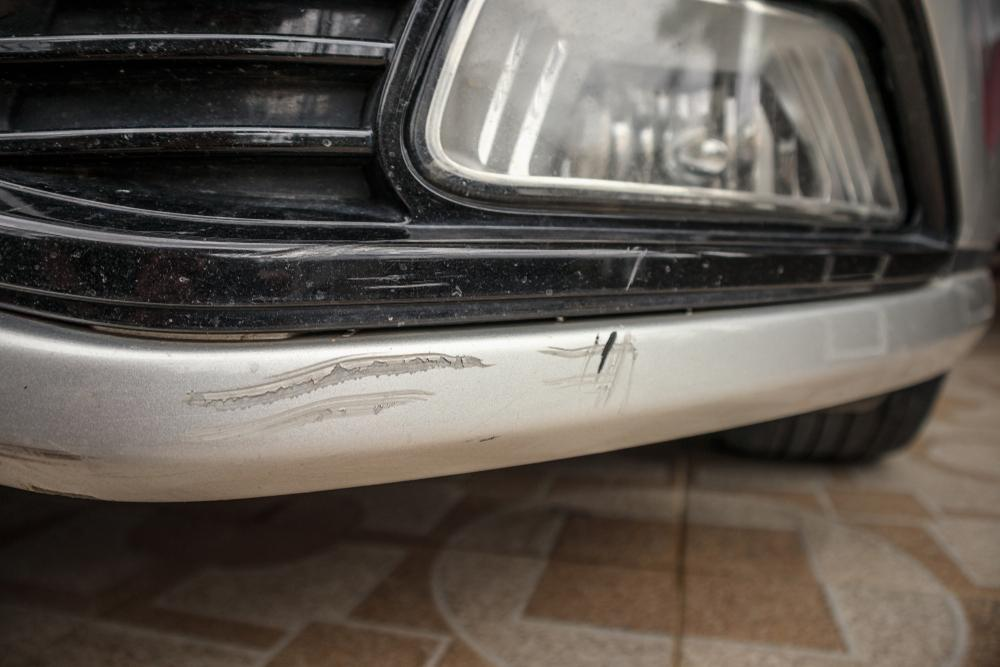scratch: (180, 347, 503, 447), (211, 241, 460, 300), (538, 330, 641, 418), (0, 435, 128, 500)
